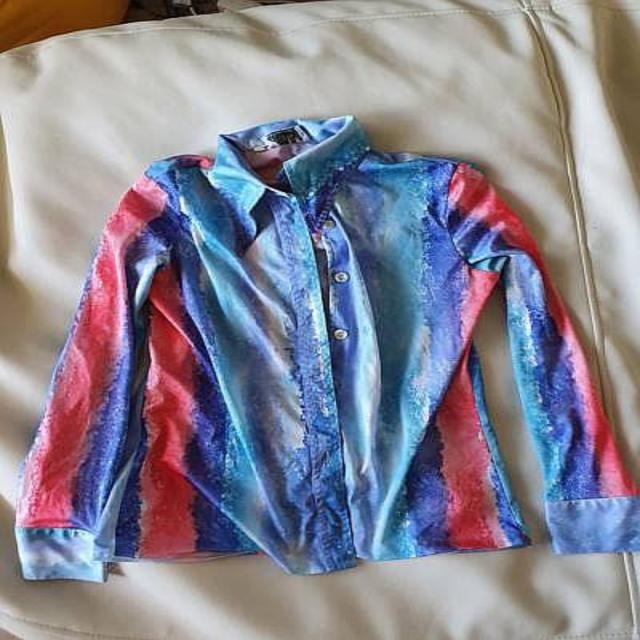SHIRT: (5, 112, 640, 590)
